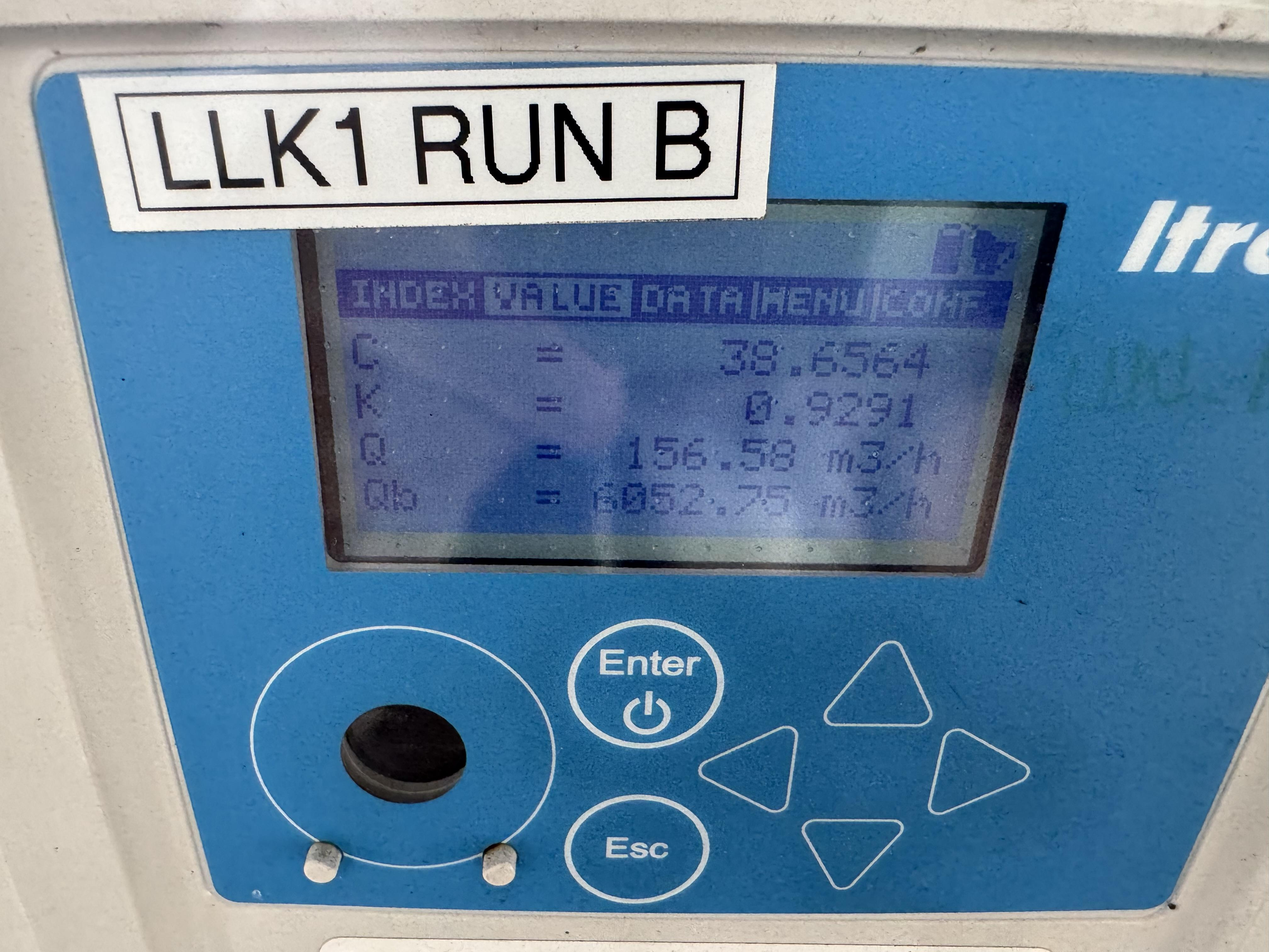digital_screen: (284, 192, 1068, 579)
